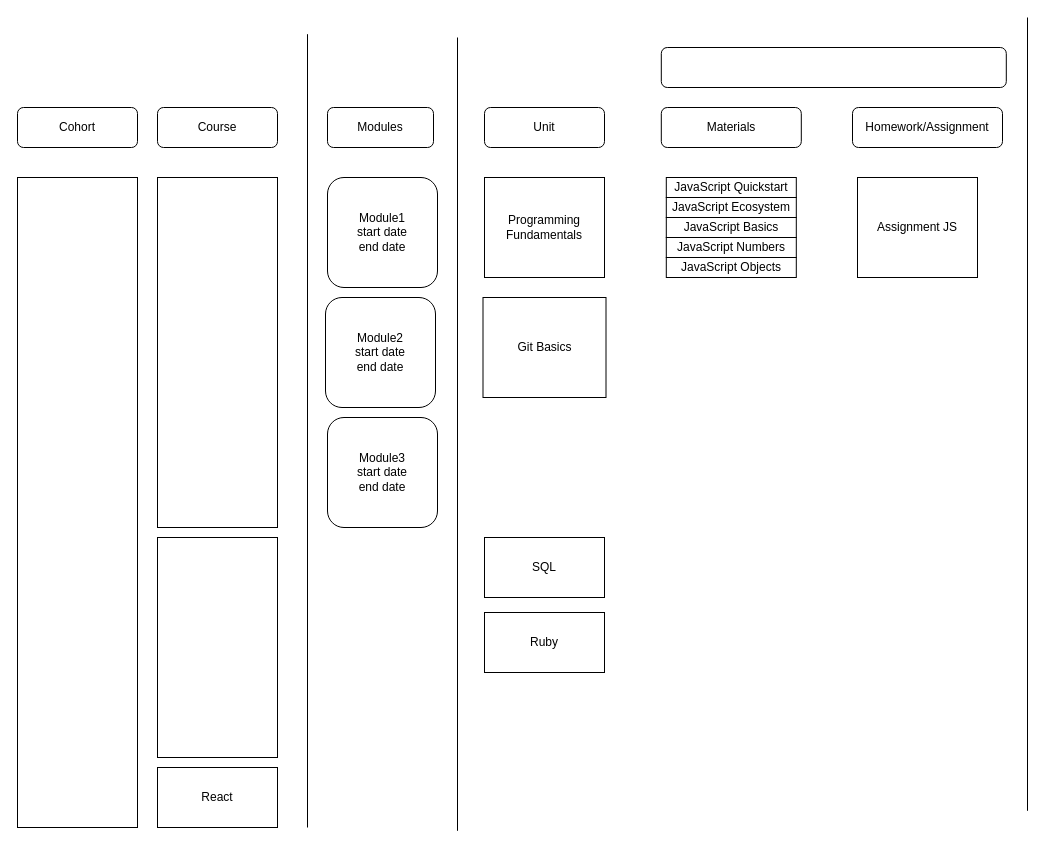
This 1046x850 diagram has some shape labels left out. Each missing label, with the centre of its shape:
"High Noon" belongs at point 77,502.
"Intro To programming" belongs at point 217,352.
"Lesson" belongs at point 833,67.
"Ruby on rails" belongs at point 217,647.
